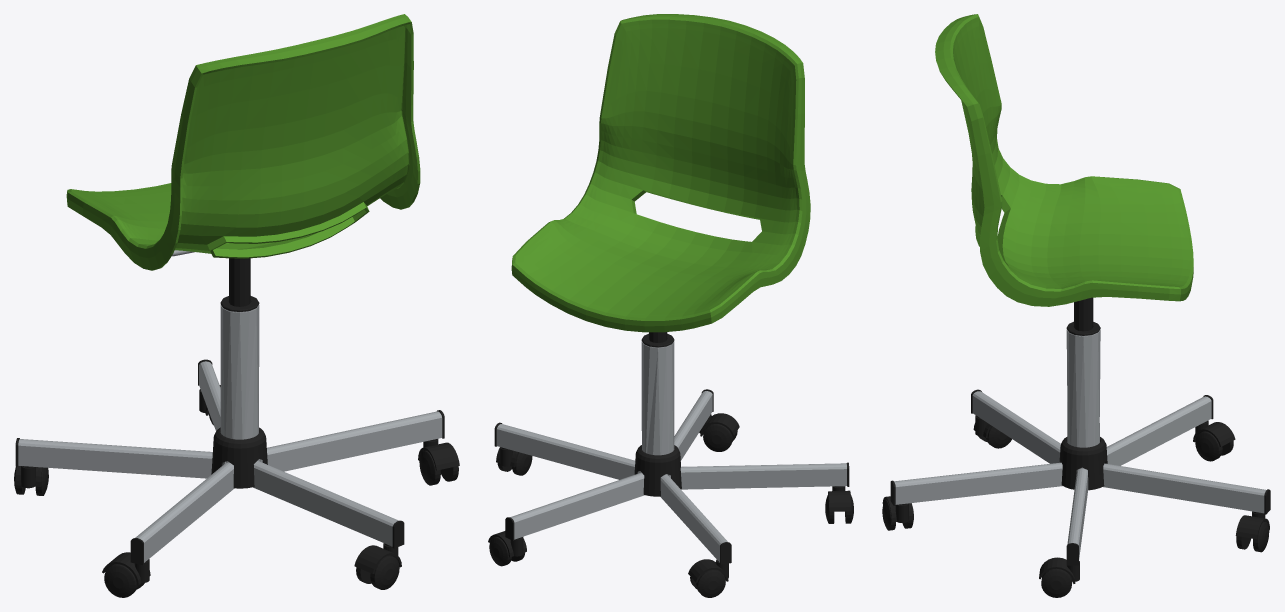
3 renders of one model, left to right at view 1: azimuth 30°, elevation 25°; view 2: azimuth 150°, elevation 25°; view 3: azimuth 270°, elevation 25°, orthographic. The views are drawn at different scales.
Visible parts, largest first — view 1: Mesh2 Group2 SNILLE_IKEA1 Model, Mesh8 Group6 SNILLE_IKEA1 Model, Mesh7 Group5 SNILLE_IKEA1 Model, Mesh1 Group1 SNILLE_IKEA1 Model, Mesh3 Group3 SNILLE_IKEA1 Model, Mesh20 ROULETTE4 SNILLE_IKEA1 Model, Mesh15 ROULETTE3 SNILLE_IKEA1 Model, Mesh12 ROULETTE2 SNILLE_IKEA1 Model, Mesh14 ROULETTE2 SNILLE_IKEA1 Model, Mesh18 ROULETTE4 SNILLE_IKEA1 Model; view 2: Mesh2 Group2 SNILLE_IKEA1 Model, Mesh8 Group6 SNILLE_IKEA1 Model, Mesh7 Group5 SNILLE_IKEA1 Model, Mesh1 Group1 SNILLE_IKEA1 Model, Mesh13 ROULETTE2 SNILLE_IKEA1 Model, Mesh11 ROULETTE1 SNILLE_IKEA1 Model, Mesh18 ROULETTE4 SNILLE_IKEA1 Model, Mesh9 ROULETTE1 SNILLE_IKEA1 Model; view 3: Mesh2 Group2 SNILLE_IKEA1 Model, Mesh8 Group6 SNILLE_IKEA1 Model, Mesh7 Group5 SNILLE_IKEA1 Model, Mesh1 Group1 SNILLE_IKEA1 Model, Mesh3 Group3 SNILLE_IKEA1 Model, Mesh17 ROULETTE3 SNILLE_IKEA1 Model, Mesh10 ROULETTE1 SNILLE_IKEA1 Model, Mesh21 ROULETTE5 SNILLE_IKEA1 Model, Mesh9 ROULETTE1 SNILLE_IKEA1 Model, Mesh15 ROULETTE3 SNILLE_IKEA1 Model.
Part boxes in pixels (left/top/right/bottom): Mesh2 Group2 SNILLE_IKEA1 Model: left=66, top=14, right=420, bottom=270; Mesh8 Group6 SNILLE_IKEA1 Model: left=15, top=359, right=444, bottom=564; Mesh7 Group5 SNILLE_IKEA1 Model: left=220, top=304, right=259, bottom=439; Mesh1 Group1 SNILLE_IKEA1 Model: left=211, top=427, right=267, bottom=488; Mesh3 Group3 SNILLE_IKEA1 Model: left=220, top=258, right=259, bottom=311; Mesh20 ROULETTE4 SNILLE_IKEA1 Model: left=104, top=564, right=137, bottom=597; Mesh15 ROULETTE3 SNILLE_IKEA1 Model: left=418, top=439, right=459, bottom=470; Mesh12 ROULETTE2 SNILLE_IKEA1 Model: left=354, top=543, right=401, bottom=573; Mesh14 ROULETTE2 SNILLE_IKEA1 Model: left=370, top=555, right=399, bottom=589; Mesh18 ROULETTE4 SNILLE_IKEA1 Model: left=102, top=552, right=150, bottom=585; Mesh2 Group2 SNILLE_IKEA1 Model: left=511, top=14, right=810, bottom=332; Mesh8 Group6 SNILLE_IKEA1 Model: left=494, top=389, right=849, bottom=564; Mesh7 Group5 SNILLE_IKEA1 Model: left=641, top=341, right=674, bottom=455; Mesh1 Group1 SNILLE_IKEA1 Model: left=634, top=445, right=681, bottom=496; Mesh13 ROULETTE2 SNILLE_IKEA1 Model: left=703, top=424, right=733, bottom=451; Mesh11 ROULETTE1 SNILLE_IKEA1 Model: left=696, top=569, right=725, bottom=597; Mesh18 ROULETTE4 SNILLE_IKEA1 Model: left=828, top=486, right=851, bottom=511; Mesh9 ROULETTE1 SNILLE_IKEA1 Model: left=688, top=559, right=728, bottom=582; Mesh2 Group2 SNILLE_IKEA1 Model: left=935, top=14, right=1193, bottom=306; Mesh8 Group6 SNILLE_IKEA1 Model: left=890, top=389, right=1270, bottom=565; Mesh7 Group5 SNILLE_IKEA1 Model: left=1066, top=329, right=1100, bottom=447; Mesh1 Group1 SNILLE_IKEA1 Model: left=1059, top=437, right=1107, bottom=490; Mesh3 Group3 SNILLE_IKEA1 Model: left=1066, top=297, right=1100, bottom=335; Mesh17 ROULETTE3 SNILLE_IKEA1 Model: left=1041, top=568, right=1072, bottom=597; Mesh10 ROULETTE1 SNILLE_IKEA1 Model: left=1195, top=431, right=1222, bottom=461; Mesh21 ROULETTE5 SNILLE_IKEA1 Model: left=1235, top=511, right=1269, bottom=539; Mesh9 ROULETTE1 SNILLE_IKEA1 Model: left=1193, top=420, right=1235, bottom=446; Mesh15 ROULETTE3 SNILLE_IKEA1 Model: left=1039, top=557, right=1079, bottom=583.
Size of the model in its own units: 0.5908 by 0.7844 by 0.593.
